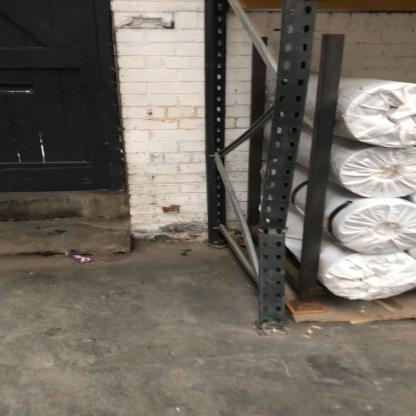vertical_damage: (247, 172, 299, 260)
